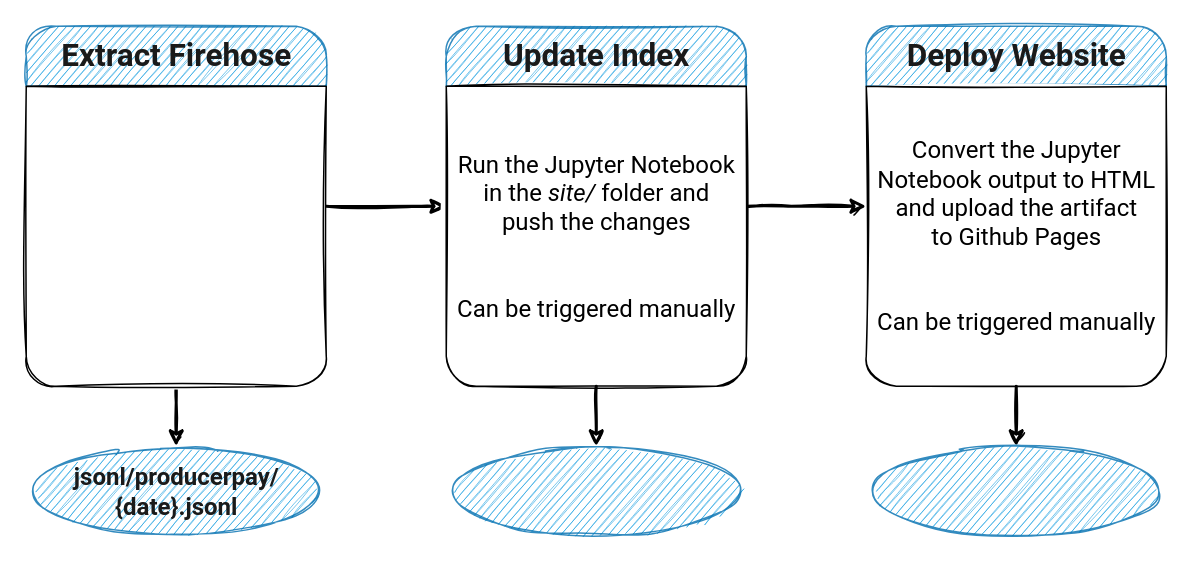
The diagram is 1193 pixels wide and 563 high, and some of its shapes have lost their labels. The centre of each missing label's shape, as x and y in pixels:
Scheduled every day at 12:00 UTC Can be triggered manually: the point at 175,235
site/index.ipynb: the point at 595,490
site/static/index.html: the point at 1015,490
